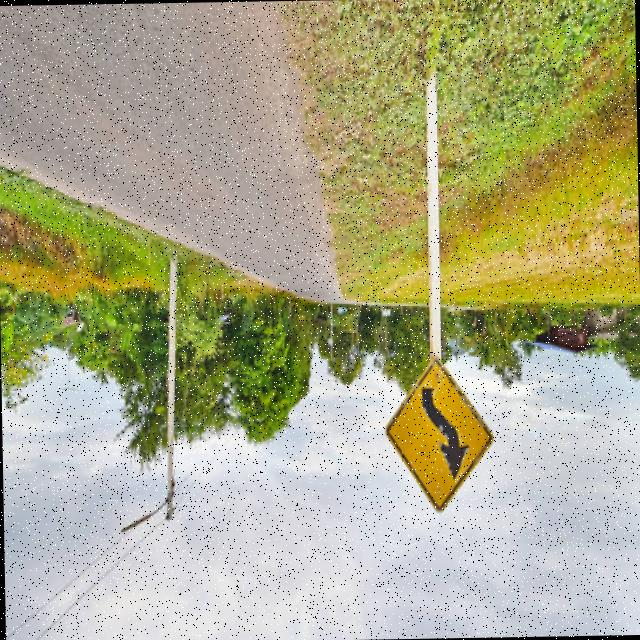left_sharp_curve: (379, 354, 492, 523)
